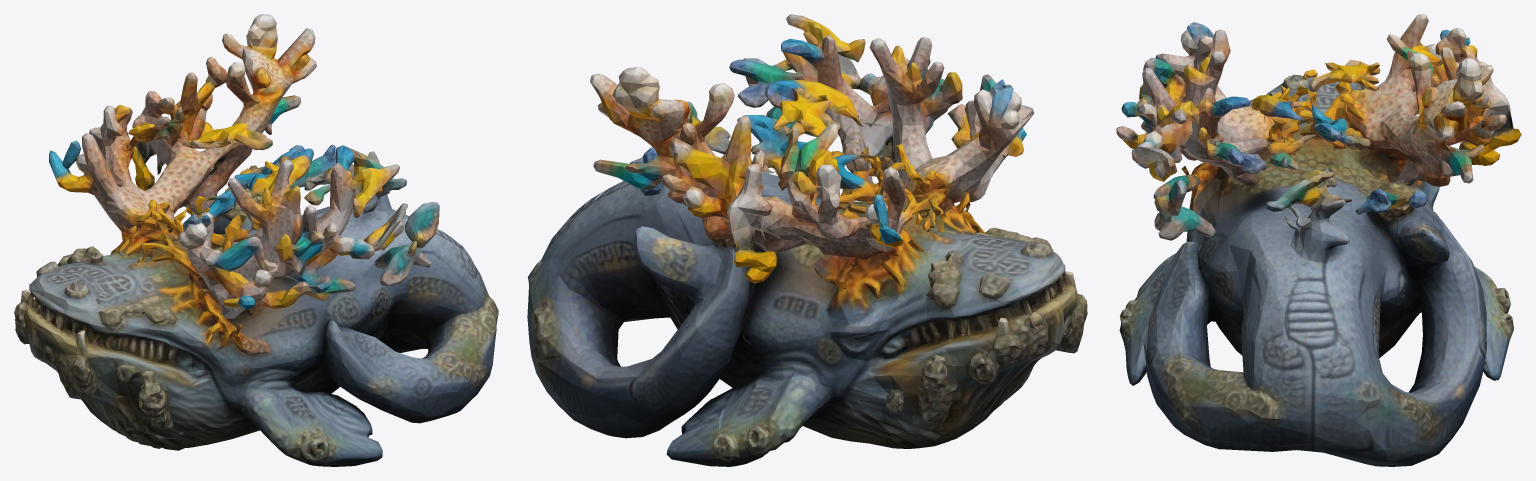
Rendered from sunkenhorn__coralStag.glb.
The picture shows the model from 3 angles, left to right: view 1: azimuth 30°, elevation 25°; view 2: azimuth 150°, elevation 25°; view 3: azimuth 270°, elevation 25°; orthographic projection. The views are drawn at different scales.
Visible parts, largest first — view 1: world; view 2: world; view 3: world.
Boxes of the visible parts, box(x1,y1,x2,y2) form: world: box(14, 14, 498, 466); world: box(527, 14, 1087, 466); world: box(1116, 14, 1521, 466).
Size of the model in its own units: 0.9974 by 0.7265 by 0.7282.
1 material, 1 textured.
